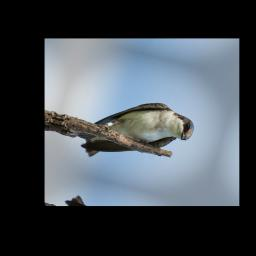Swallow: (72, 86, 199, 180)
